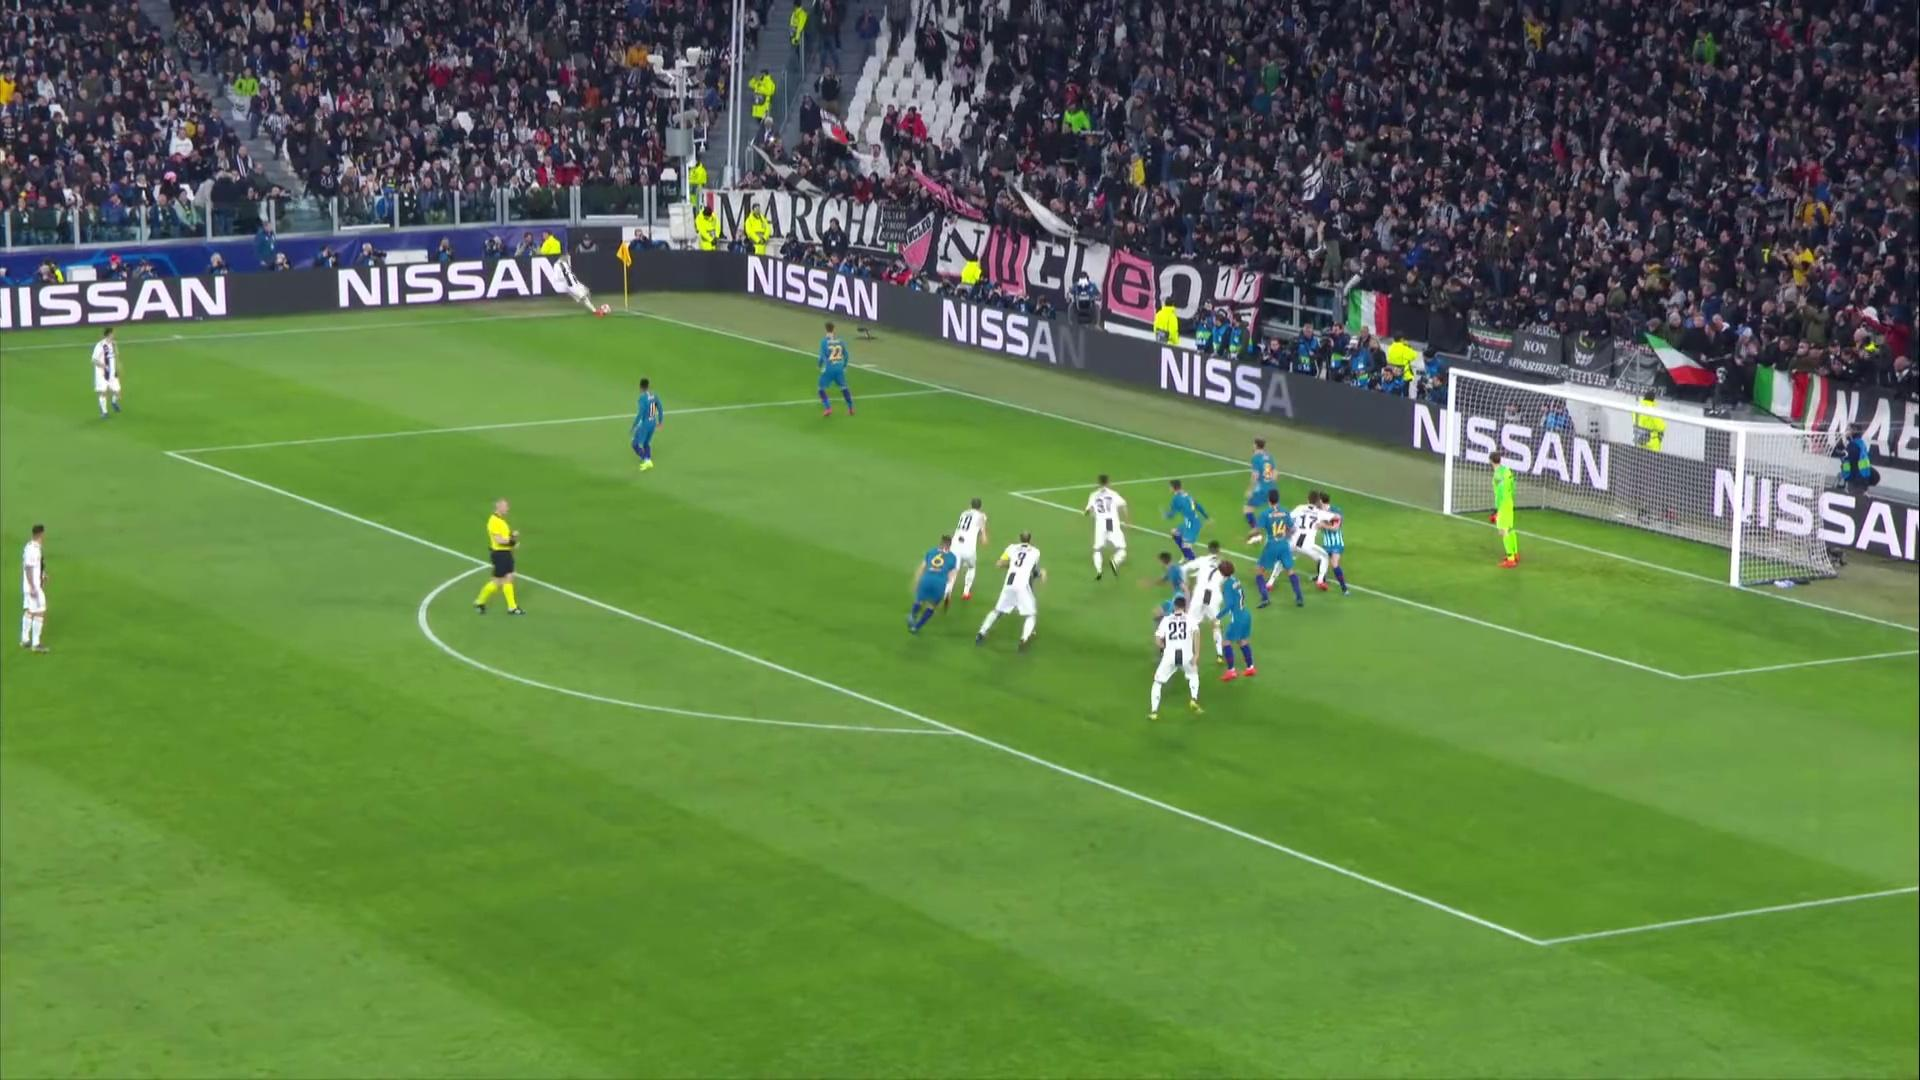ball: (594, 297, 617, 319)
goalkeeper: (1481, 448, 1525, 572)
player: (972, 530, 1051, 657), (1171, 537, 1240, 671), (1260, 490, 1339, 595), (1144, 594, 1208, 723), (1138, 545, 1196, 663), (1253, 489, 1307, 614), (1241, 434, 1295, 552), (983, 543, 1047, 641), (1211, 556, 1259, 686), (1081, 470, 1133, 584), (904, 530, 958, 639), (940, 496, 989, 607), (1306, 491, 1355, 600), (17, 521, 55, 657), (811, 318, 860, 423), (549, 247, 606, 319), (87, 324, 129, 421), (629, 372, 667, 475), (1169, 476, 1203, 578)
referee: (472, 497, 529, 622)
